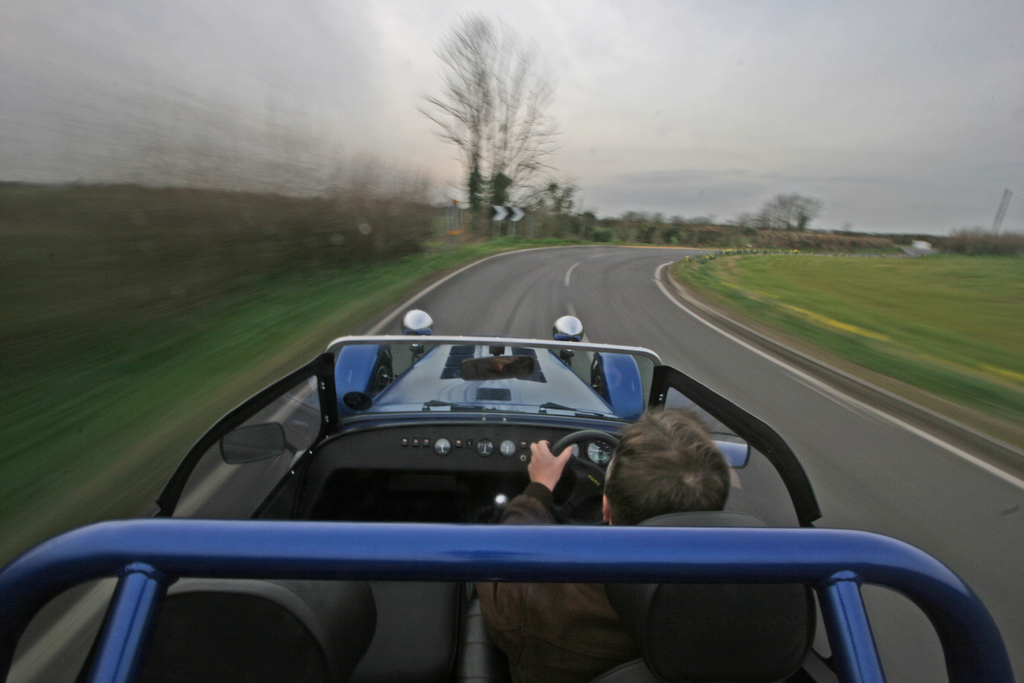Car: (0, 308, 1019, 682)
